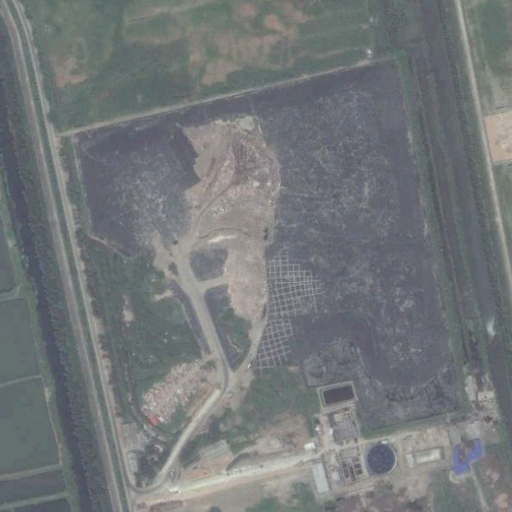lf: (75, 61, 479, 443)
